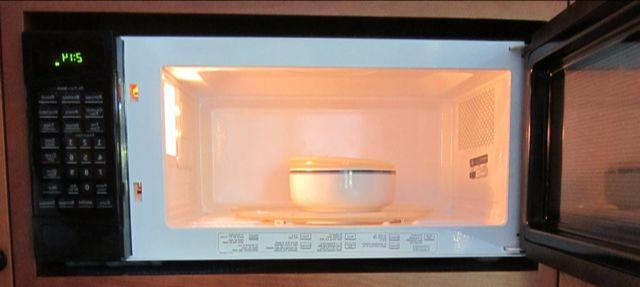controlled_fire: (160, 67, 516, 231)
